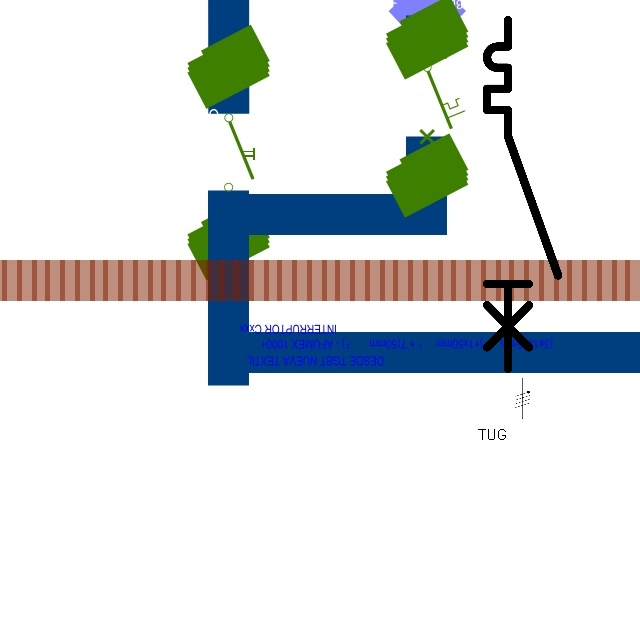interruptor_termomagnetico: (478, 11, 567, 377)
